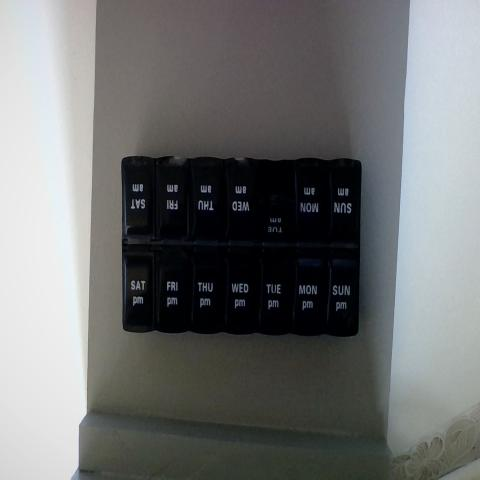FRI-am: (158, 164, 188, 241)
FRI-pm: (160, 250, 190, 330)
MON-am: (294, 162, 329, 243)
MON-pm: (290, 249, 326, 333)
Open: (260, 163, 290, 248)
PillBox: (108, 134, 380, 372)
SAT-am: (124, 158, 159, 239)
SAT-pm: (125, 251, 157, 329)
SUN-am: (328, 160, 360, 246)
SUN-pm: (323, 248, 357, 331)
THU-am: (191, 160, 224, 242)
THU-pm: (189, 245, 223, 331)
TUE-pm: (257, 251, 289, 332)
WED-am: (226, 160, 258, 243)
WED-pm: (223, 252, 258, 330)
